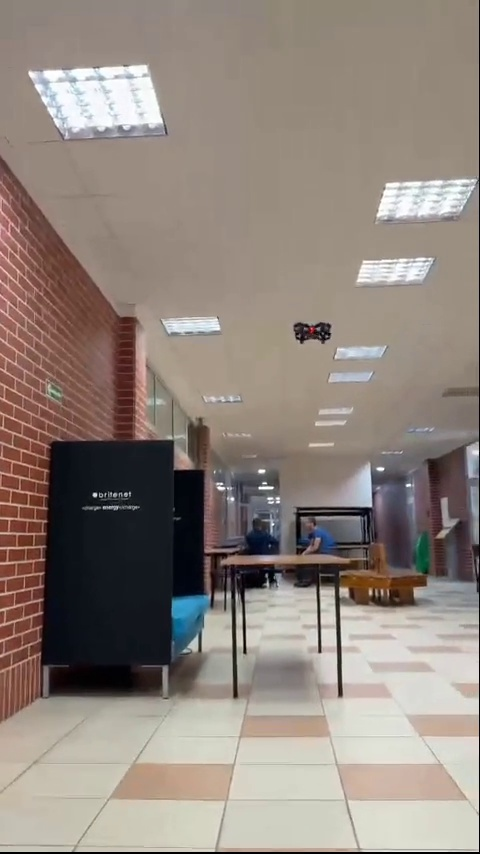drone: (291, 321, 330, 348)
no vest: (297, 515, 331, 556), (246, 514, 280, 545)
